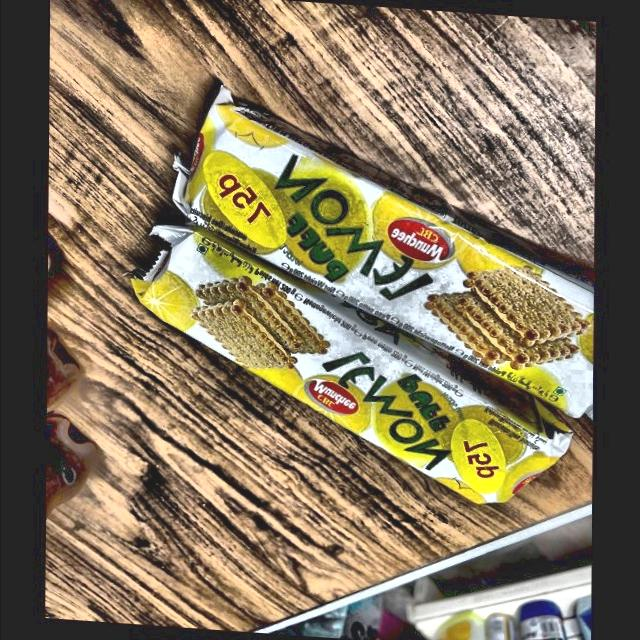lemon puff: (156, 88, 601, 416), (139, 218, 567, 510)
